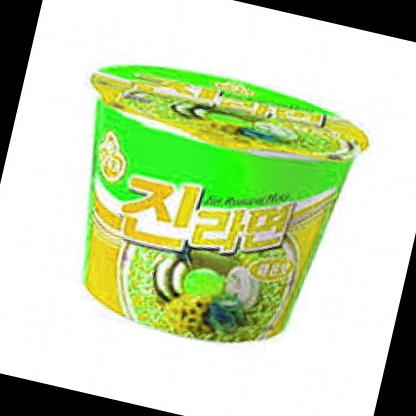Ramen: (32, 41, 386, 374)
